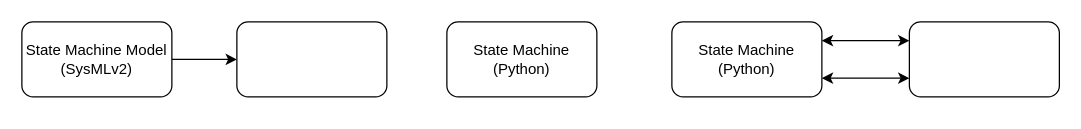
The diagram is 1081 pixels wide and 129 high, and some of its shapes have lost their labels. The centre of each missing label's shape, as x and y in pixels:
DSL Translator: the point at 311,59
Mission Simulator: the point at 983,59
